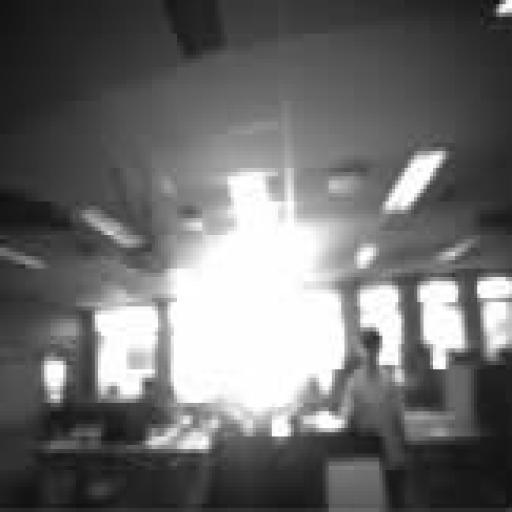human: (342, 328, 407, 507)
